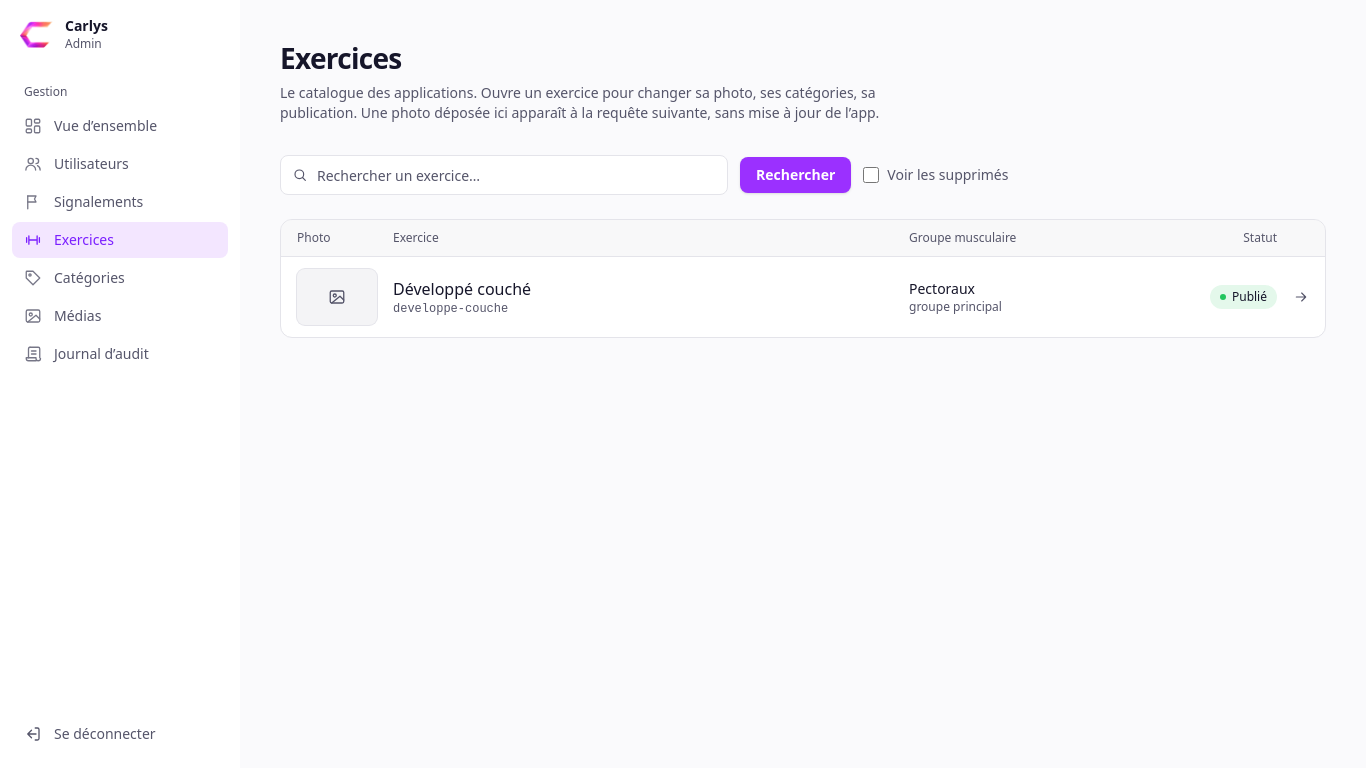
Scenario: Page Exercices › la fiche s’ouvre au clic et se referme, sur l’exercice choisi
Step 1. Click the button with aria-label "Ouvrir la fiche de Développé couché" → (337, 297), box [281,257,1325,337]
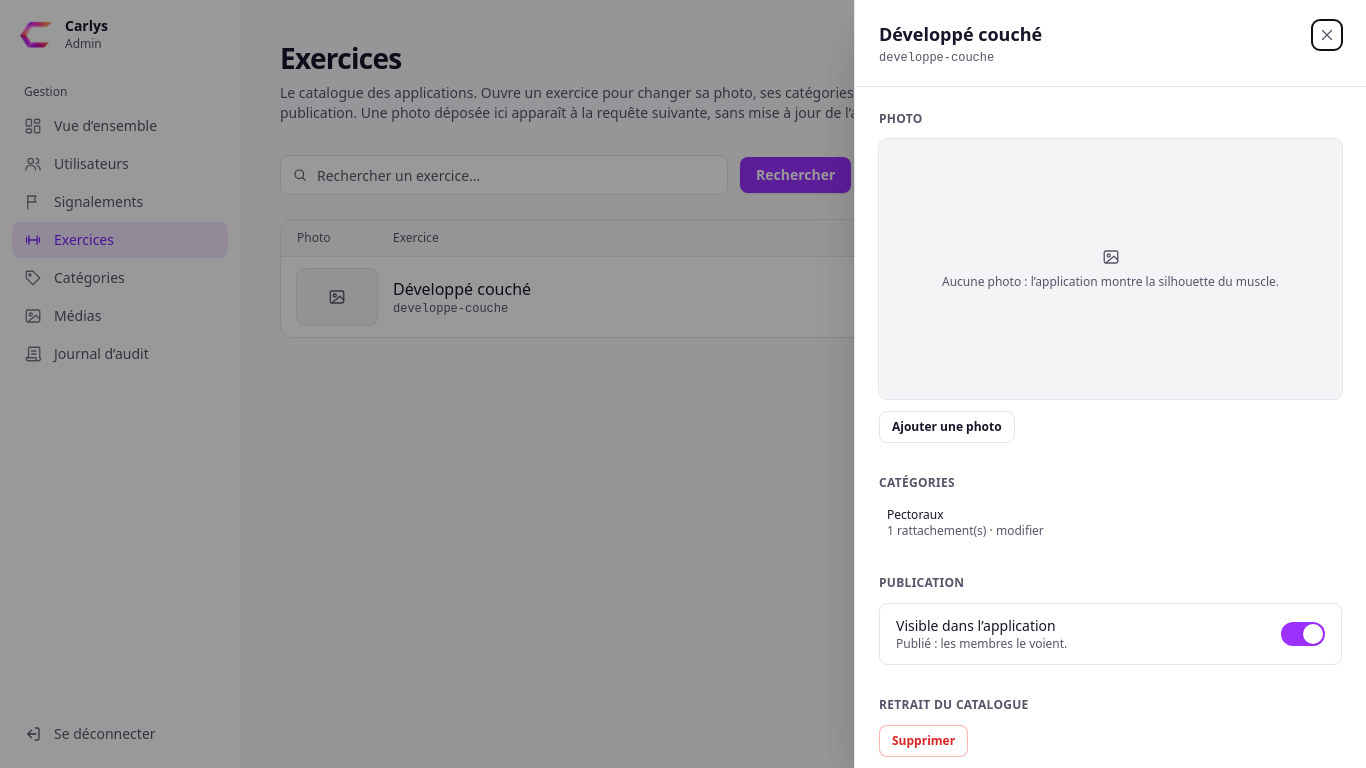
Check: the dialog "Développé couché" shows "Photo", box [879,110,923,127]
Check: the switch named "Visible dans l’application" is checked, box [1281,622,1325,646]
Step 2. Click the button named "Fermer" → (1327, 35), box [1312,20,1342,50]
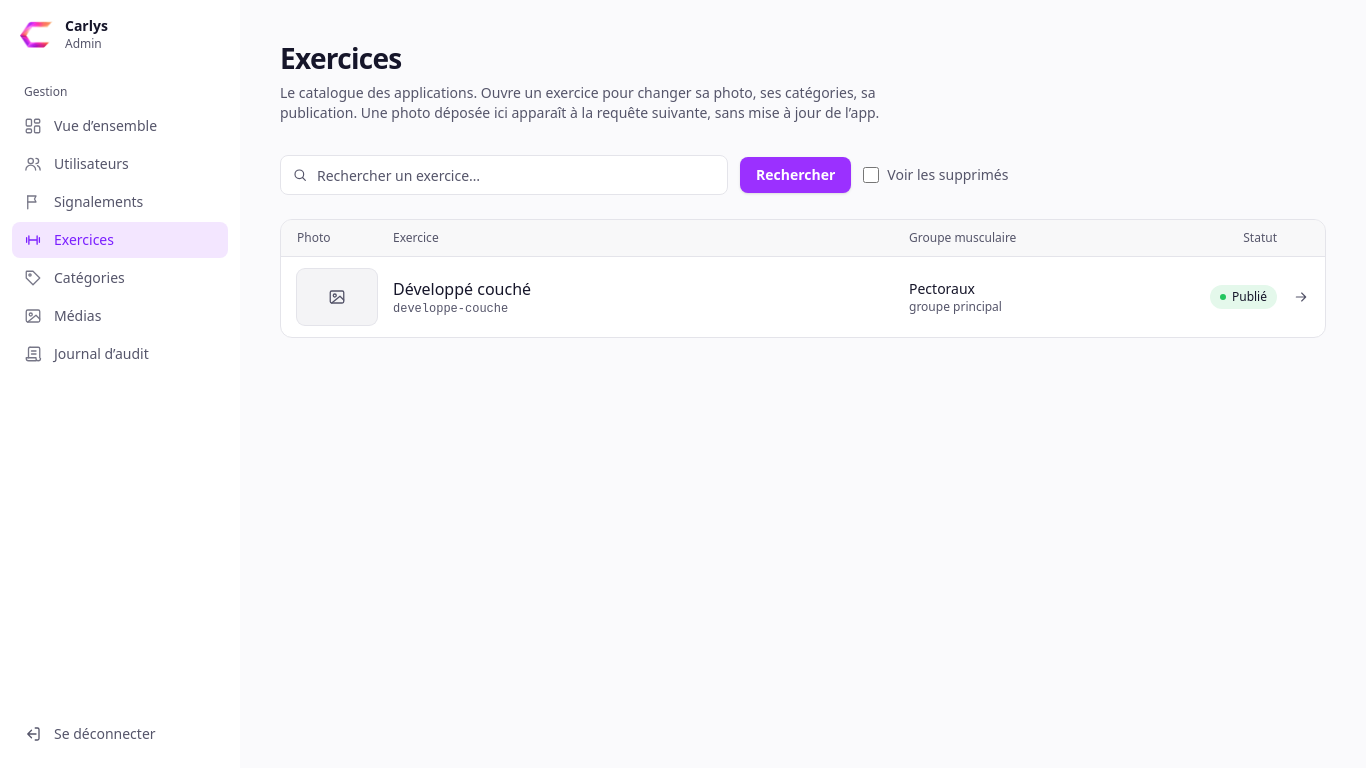
Check: the dialog is gone
